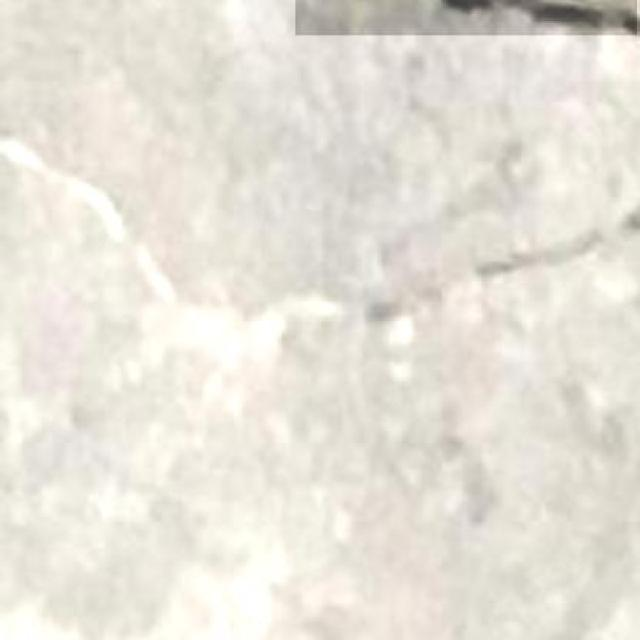Crack: (0, 50, 227, 299), (367, 189, 640, 337), (303, 0, 640, 97)
